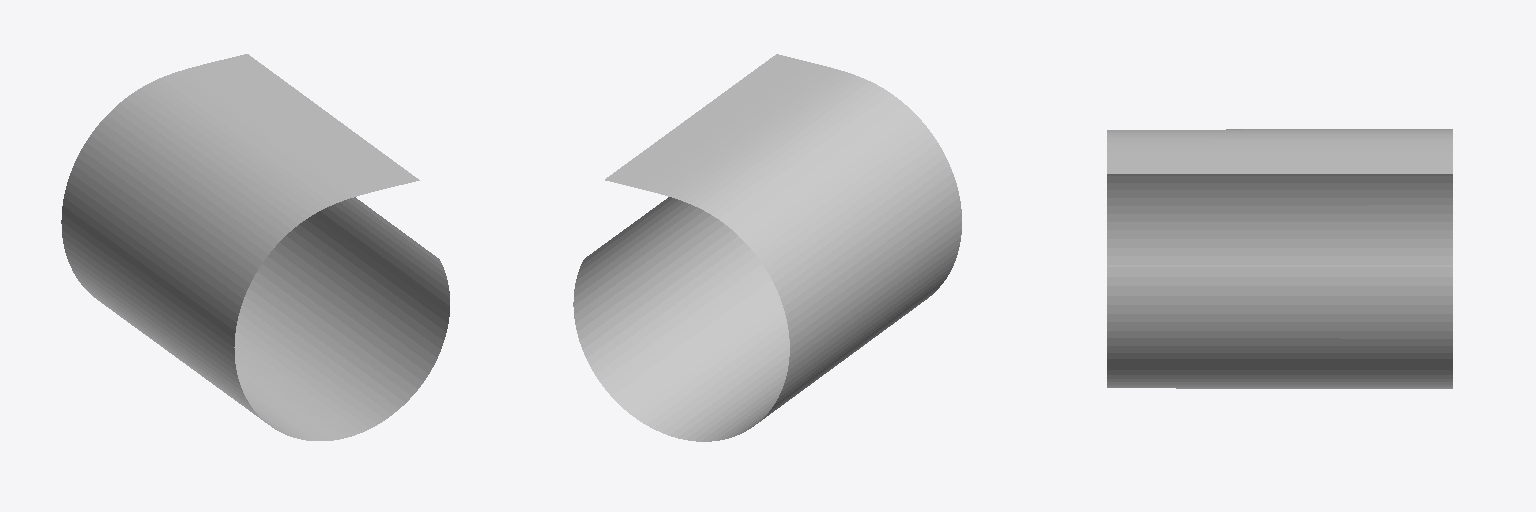
The model's file is CurvePaper_000014.obj.
3 renders of one model, left to right at view 1: azimuth 30°, elevation 25°; view 2: azimuth 150°, elevation 25°; view 3: azimuth 270°, elevation 25°, orthographic.
Parts seen in each view (by area): view 1: Plane; view 2: Plane; view 3: Plane.
Part boxes in pixels (x1,y1,x2,y2): Plane: (61, 54, 449, 440); Plane: (573, 54, 961, 441); Plane: (1107, 129, 1452, 388).
Bounding box in the file's own units: 1.64 × 1.74 × 2.26.